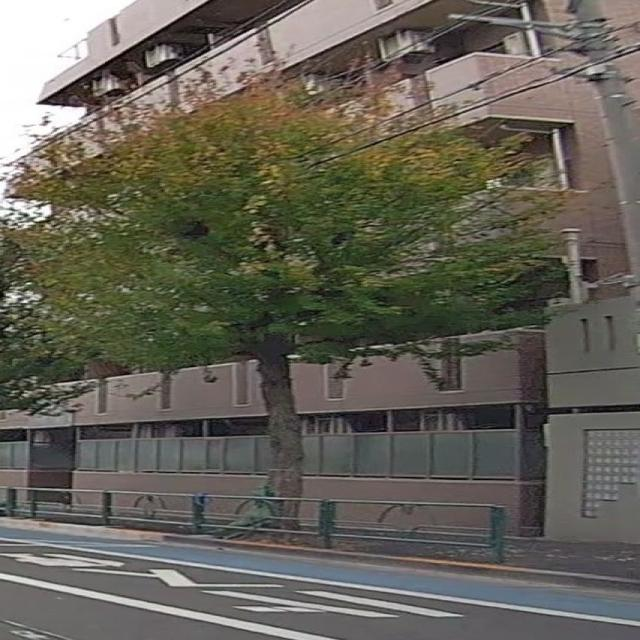maple: (0, 35, 625, 535)
